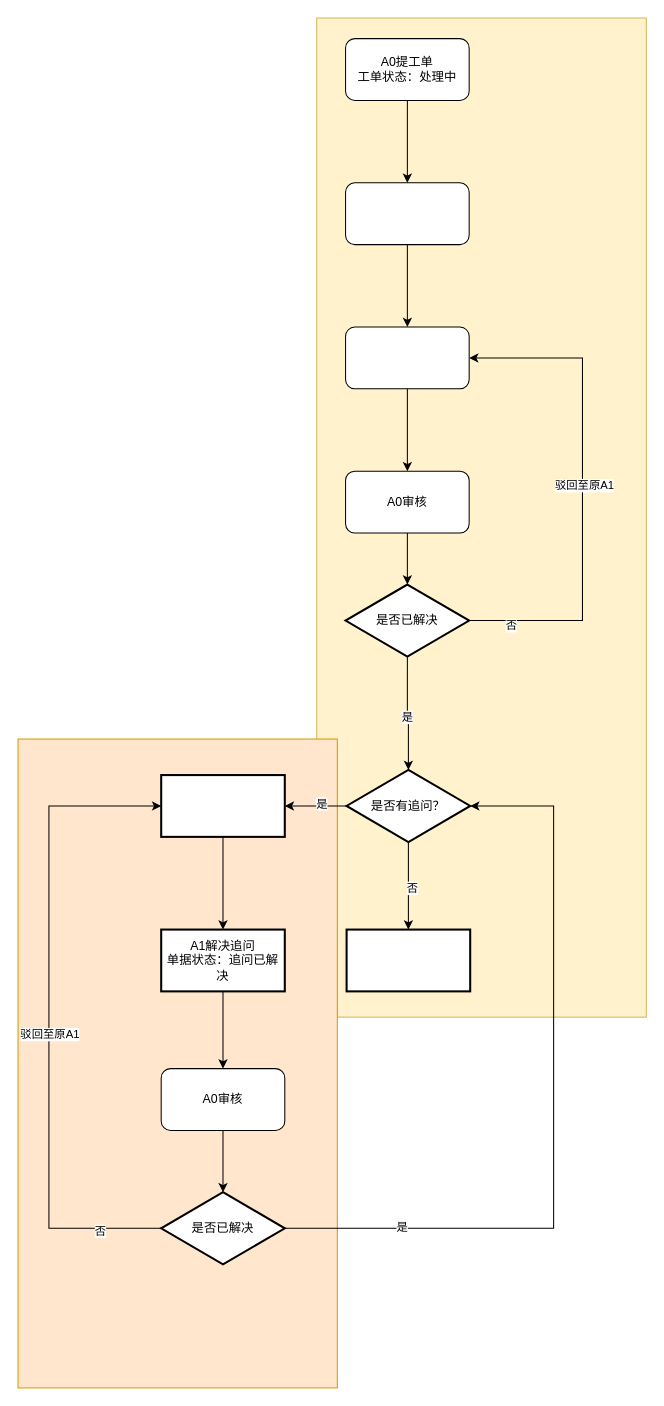
Some shapes in this 664 by 1406 pixel diagram are drawn without their labels. The shapes that lost their labels are listed below. From the top down, each one's box as (x1, y1, x2, y2) in pixels, then its label:
(345, 182, 469, 245): 指派给A1 工单状态：处理中
(345, 326, 469, 389): A1解决 工单状态：已解决
(160, 774, 285, 837): A0指派至原A1 单据状态：追问中
(345, 928, 471, 992): A0已解决 工单状态：已关闭
